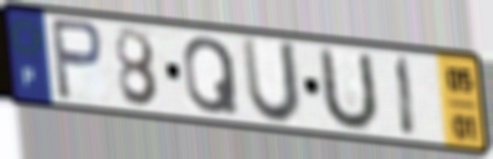8: (112, 26, 161, 110)
I: (393, 52, 419, 142)
P: (48, 15, 107, 105)
Q: (181, 34, 242, 117)
U: (238, 34, 304, 128), (318, 44, 382, 134)
